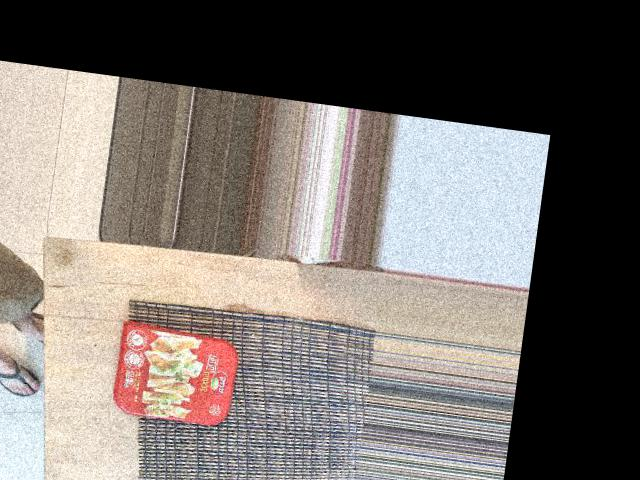cheese: (86, 278, 252, 442)
